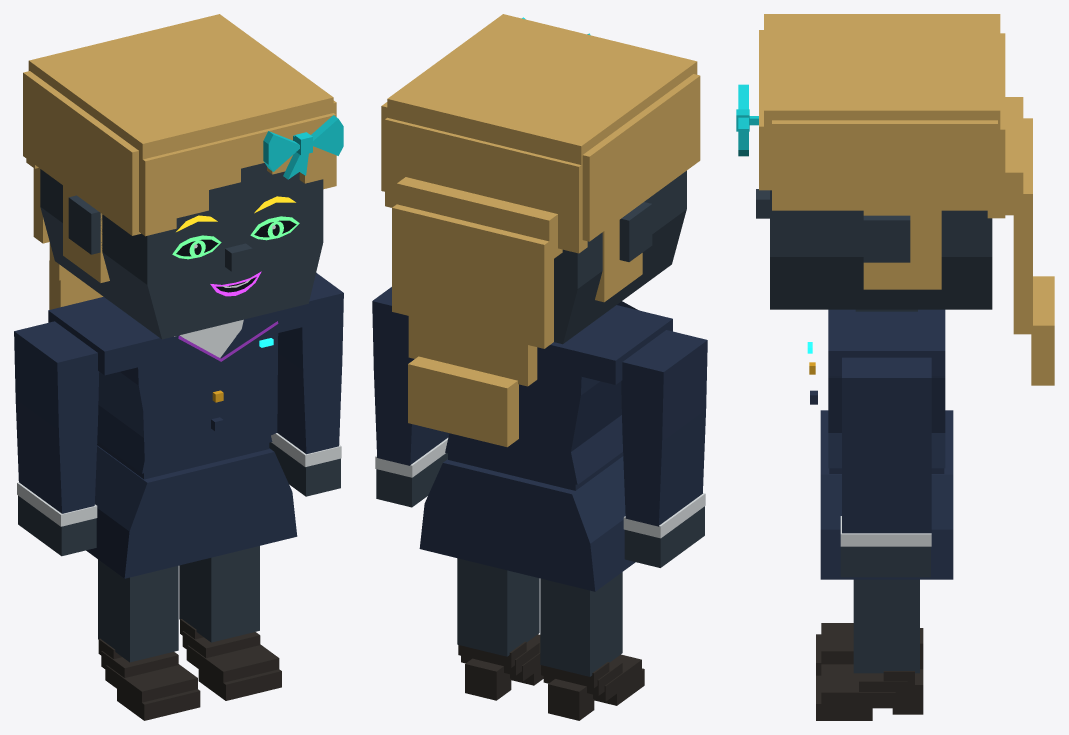
Rendered from sample_1.glb.
3 renders of one model, left to right at view 1: azimuth 30°, elevation 25°; view 2: azimuth 150°, elevation 25°; view 3: azimuth 270°, elevation 25°, orthographic. The views are drawn at different scales.
Visible parts, largest first — view 1: char_hair_visual, char_torso_visual, char_head_visual, char_arm_negx_visual, char_leg_negx_visual, char_leg_posx_visual, char_arm_posx_visual, char_bow_visual, char_hand_negx_visual, char_hand_posx_visual, char_eye_negx_visual, char_eye_posx_visual (+1 smaller); view 2: char_hair_visual, char_torso_visual, char_arm_negx_visual, char_leg_negx_visual, char_leg_posx_visual, char_head_visual, char_arm_posx_visual, char_hand_negx_visual, char_hand_posx_visual; view 3: char_hair_visual, char_head_visual, char_arm_posx_visual, char_torso_visual, char_leg_posx_visual, char_hand_posx_visual, char_leg_negx_visual, char_bow_visual.
Boxes of the visible parts, x1=… form: char_hair_visual: x1=23, y1=14, x2=336, y2=309; char_torso_visual: x1=48, y1=297, x2=309, y2=578; char_head_visual: x1=40, y1=163, x2=323, y2=339; char_arm_negx_visual: x1=14, y1=321, x2=99, y2=526; char_leg_negx_visual: x1=98, y1=559, x2=200, y2=720; char_leg_posx_visual: x1=179, y1=546, x2=281, y2=700; char_arm_posx_visual: x1=271, y1=272, x2=343, y2=466; char_bow_visual: x1=263, y1=115, x2=343, y2=179; char_hand_negx_visual: x1=18, y1=495, x2=96, y2=556; char_hand_posx_visual: x1=269, y1=442, x2=340, y2=496; char_eye_negx_visual: x1=172, y1=235, x2=221, y2=259; char_eye_posx_visual: x1=250, y1=216, x2=299, y2=240; char_hair_visual: x1=381, y1=14, x2=700, y2=447; char_torso_visual: x1=407, y1=301, x2=672, y2=591; char_arm_negx_visual: x1=621, y1=330, x2=707, y2=538; char_leg_negx_visual: x1=540, y1=572, x2=644, y2=720; char_leg_posx_visual: x1=457, y1=558, x2=543, y2=700; char_head_visual: x1=554, y1=170, x2=686, y2=344; char_arm_posx_visual: x1=372, y1=287, x2=449, y2=477; char_hand_negx_visual: x1=624, y1=506, x2=704, y2=567; char_hand_posx_visual: x1=376, y1=453, x2=447, y2=507; char_hair_visual: x1=759, y1=14, x2=1054, y2=385; char_head_visual: x1=756, y1=189, x2=992, y2=311; char_arm_posx_visual: x1=840, y1=357, x2=931, y2=546; char_torso_visual: x1=809, y1=309, x2=953, y2=579; char_leg_posx_visual: x1=816, y1=579, x2=923, y2=720; char_hand_posx_visual: x1=840, y1=546, x2=930, y2=577; char_leg_negx_visual: x1=816, y1=623, x2=923, y2=675; char_bow_visual: x1=736, y1=84, x2=758, y2=156.
Size of the model in its own units: 0.88 by 1.77 by 0.816.
